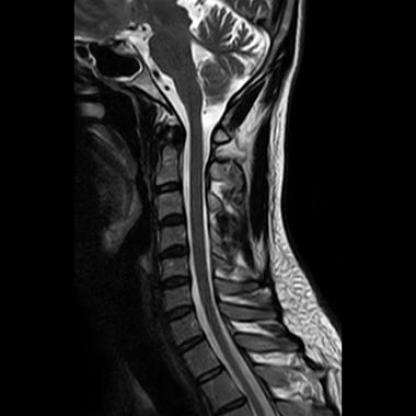Degenerative Disc Diseaserotation: (157, 244, 190, 262), (165, 305, 196, 322), (158, 212, 187, 229)
